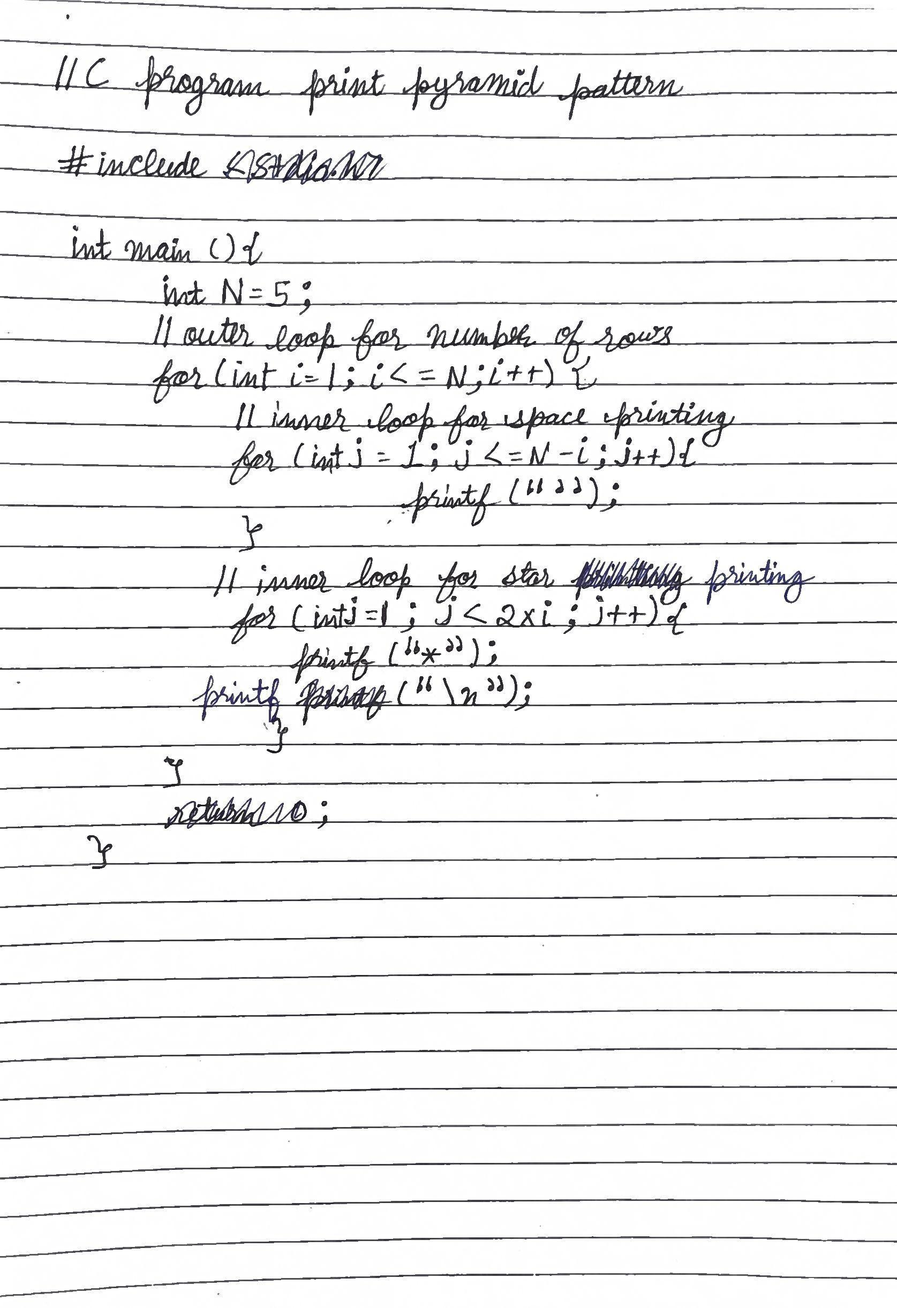cuttings: (218, 147, 389, 187), (568, 556, 694, 607), (162, 794, 308, 831), (293, 677, 394, 726)
